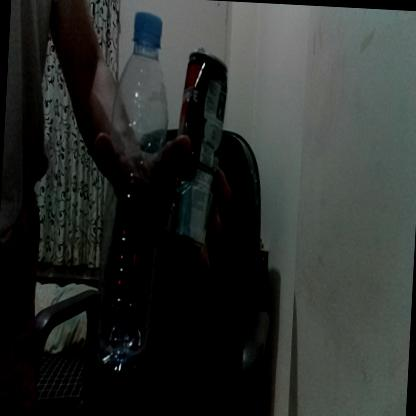alumunium_can: (163, 40, 227, 250)
plastic_bottles: (89, 12, 174, 381)
